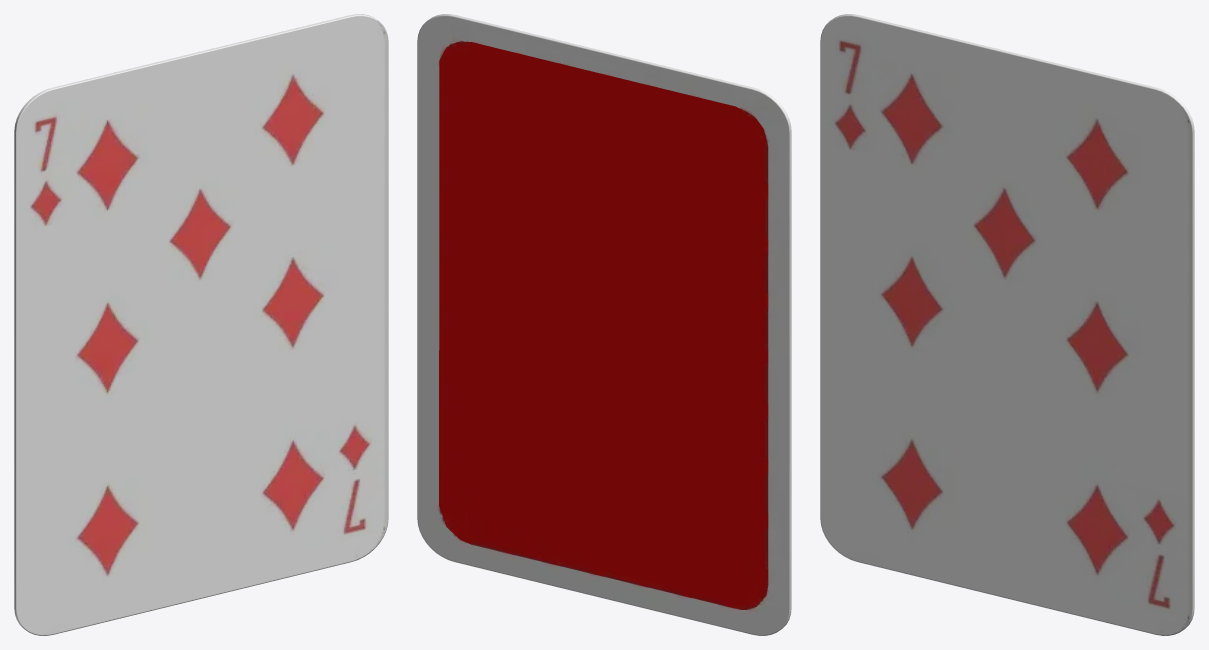
Rendered from diamonds_7-transformed.glb.
3 renders of one model, left to right at view 1: azimuth 30°, elevation 25°; view 2: azimuth 150°, elevation 25°; view 3: azimuth 330°, elevation 25°, orthographic.
Parts seen in each view (by area): view 1: defaultMaterial.029; view 2: defaultMaterial.029; view 3: defaultMaterial.029.
Boxes of the visible parts, box(x1,y1,x2,y2) form: defaultMaterial.029: box(14, 14, 388, 635); defaultMaterial.029: box(417, 14, 791, 635); defaultMaterial.029: box(820, 14, 1194, 635).
Bounding box in the file's own units: 0.1408 × 0.1972 × 0.00111.
1 material, 1 textured.
